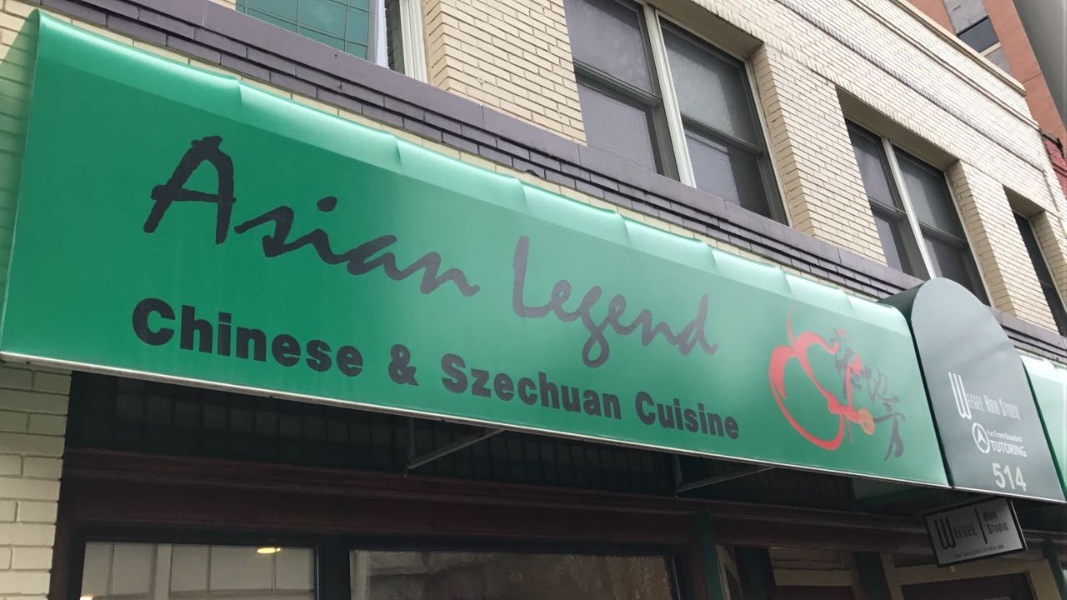text: (193, 123, 208, 307), (209, 123, 224, 307), (225, 123, 240, 307), (241, 123, 256, 307), (257, 123, 272, 307), (273, 123, 288, 307), (289, 123, 304, 307), (305, 123, 320, 307), (321, 123, 336, 307), (337, 123, 352, 307), (353, 123, 368, 307), (369, 123, 384, 307), (385, 123, 400, 307), (401, 123, 416, 307), (417, 123, 432, 307), (433, 123, 448, 307), (449, 123, 464, 307), (465, 123, 480, 307), (705, 231, 721, 379), (513, 231, 528, 379), (529, 231, 544, 379), (545, 231, 560, 379), (561, 231, 576, 379), (577, 231, 592, 379), (593, 231, 608, 379), (609, 231, 624, 379), (625, 231, 640, 379), (641, 231, 656, 379), (657, 231, 672, 379), (673, 231, 688, 379), (689, 231, 704, 379), (481, 123, 491, 307), (145, 291, 160, 382), (161, 291, 176, 382), (177, 291, 192, 382), (193, 291, 208, 382), (209, 291, 224, 382), (225, 291, 240, 382), (241, 291, 256, 382), (257, 291, 272, 382), (273, 291, 288, 382), (289, 291, 304, 382), (305, 291, 320, 382), (321, 291, 336, 382), (337, 291, 352, 382), (353, 291, 365, 382), (449, 351, 464, 421), (465, 351, 480, 421), (481, 351, 496, 421), (497, 351, 512, 421), (513, 351, 528, 421), (529, 351, 544, 421), (545, 351, 560, 421), (561, 351, 576, 421), (577, 351, 592, 421), (593, 351, 608, 421), (609, 351, 624, 421), (133, 291, 144, 382), (945, 367, 960, 420), (961, 367, 976, 420), (977, 367, 992, 420), (993, 367, 1008, 420), (641, 388, 656, 440), (657, 388, 672, 440), (673, 388, 688, 440), (689, 388, 704, 440), (705, 388, 720, 440), (721, 388, 736, 440), (401, 341, 416, 390), (1009, 367, 1022, 420), (386, 341, 400, 390), (439, 351, 448, 421), (993, 461, 1008, 495), (1009, 461, 1024, 495), (945, 516, 958, 551), (932, 516, 944, 551), (190, 123, 192, 307), (961, 541, 976, 560), (977, 541, 992, 560), (993, 440, 1008, 458), (1009, 440, 1024, 458), (635, 388, 640, 440), (737, 388, 742, 440), (1009, 427, 1025, 443), (993, 427, 1008, 443), (961, 524, 976, 540), (1025, 461, 1032, 495), (993, 541, 1005, 560), (417, 341, 421, 390), (993, 522, 1008, 535), (952, 541, 960, 560), (953, 524, 960, 540), (982, 511, 992, 522), (986, 427, 992, 443), (985, 522, 992, 535), (988, 440, 992, 458), (1025, 440, 1029, 458), (990, 461, 992, 495), (993, 511, 998, 522), (977, 524, 978, 540), (1009, 522, 1010, 535)
